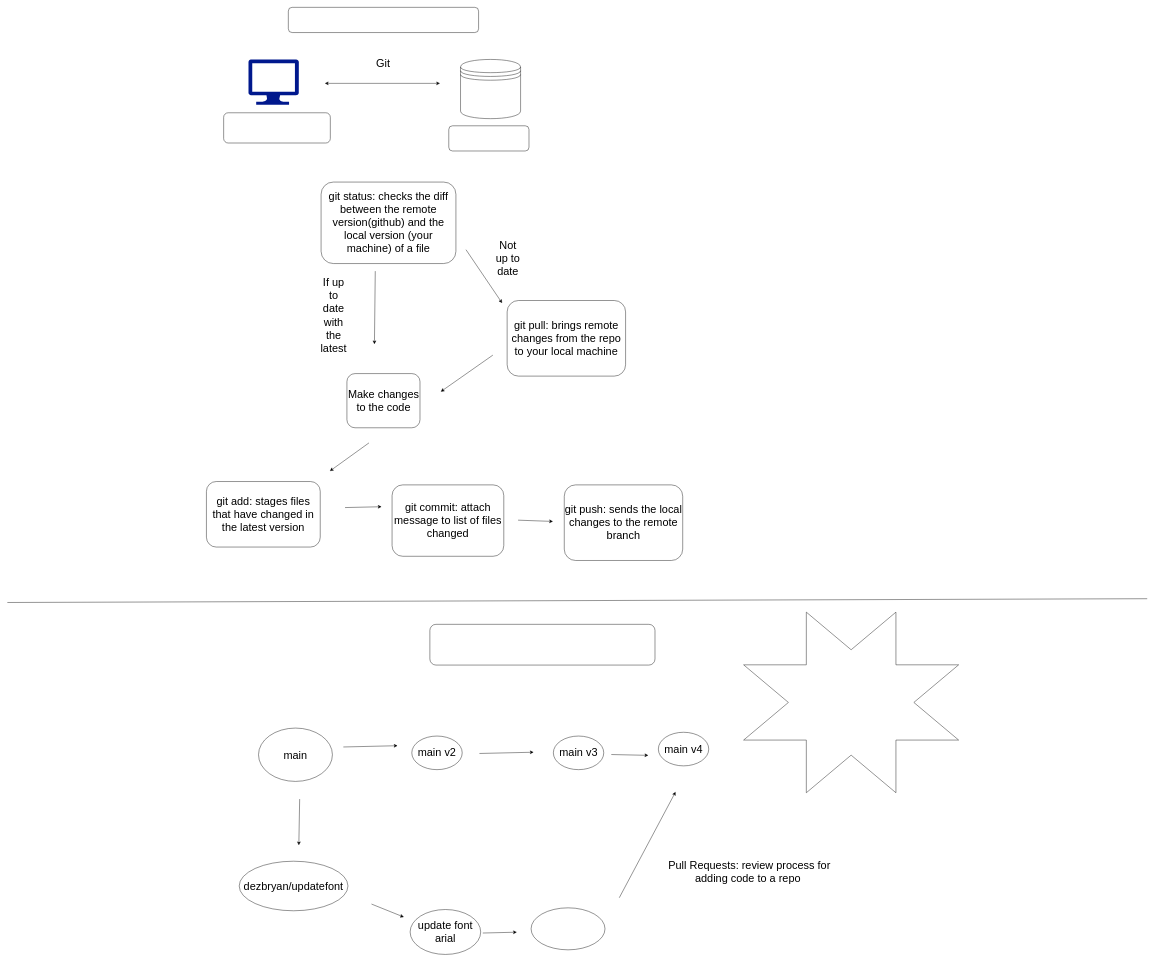
The diagram is 1155 pixels wide and 962 high, and some of its shapes have lost their labels. Each missing label, with the box of its shape:
Branches: (429, 624, 655, 665)
Git Intro: (288, 7, 479, 33)
GitHub: (448, 125, 529, 151)
Local Machine: (223, 112, 330, 143)
merge conflict: (743, 612, 959, 793)
update font to 18 pt: (531, 907, 605, 950)
